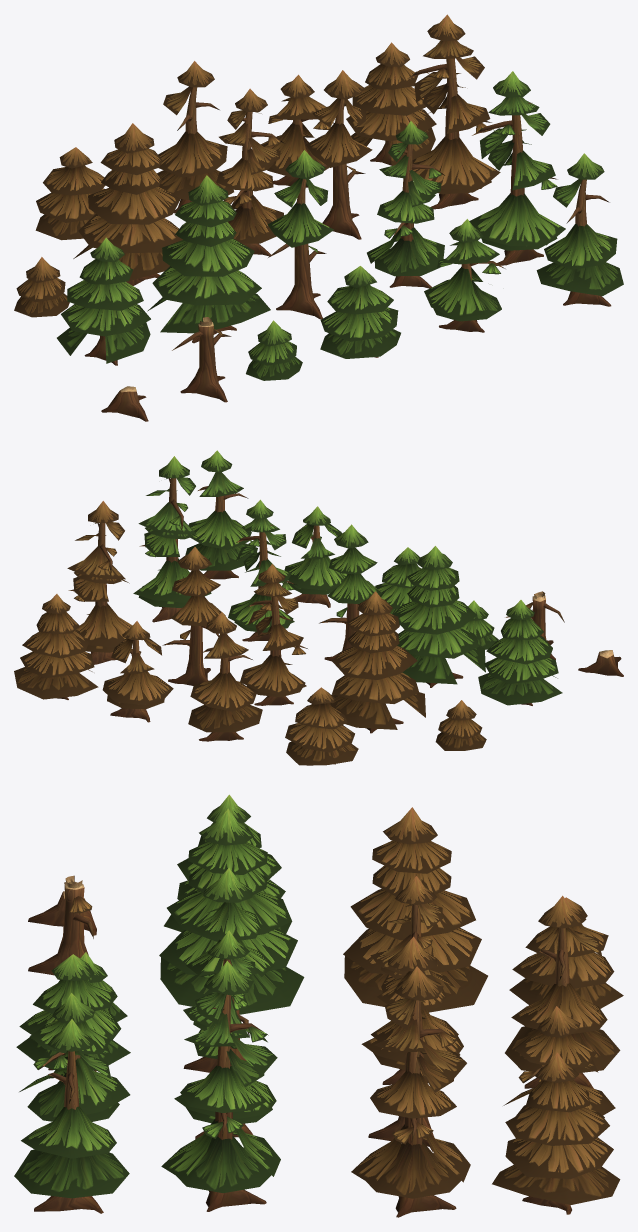
File: Pines4Sketch.fbx
3 renders of one model, top to bottom at view 1: azimuth 30°, elevation 25°; view 2: azimuth 150°, elevation 25°; view 3: azimuth 270°, elevation 25°, orthographic. The views are drawn at different scales.
Parts seen in each view (by area): view 1: pine_tree_01, pine_tree_10, pine_tree_05, pine_tree_14, pine_tree_02, pine_tree_06, pine_tree_07, pine_tree_11, pine_tree_15, pine_tree_03, pine_tree_08, pine_tree_16 (+8 smaller); view 2: pine_tree_10, pine_tree_01, pine_tree_02, pine_tree_11, pine_tree_14, pine_tree_16, pine_tree_05, pine_tree_15, pine_tree_07, pine_tree_12, pine_tree_18, pine_tree_17 (+8 smaller); view 3: pine_tree_14, pine_tree_05, pine_tree_10, pine_tree_01, pine_tree_11, pine_tree_07, pine_tree_16, pine_tree_09, pine_tree_12, pine_tree_03, pine_tree_08, pine_tree_15 (+7 smaller).
Part boxes in pixels (bbox=[...]): pine_tree_01: bbox=[147, 175, 270, 343]; pine_tree_10: bbox=[73, 123, 182, 285]; pine_tree_05: bbox=[469, 71, 565, 265]; pine_tree_14: bbox=[406, 14, 500, 209]; pine_tree_02: bbox=[57, 237, 150, 365]; pine_tree_06: bbox=[367, 121, 444, 288]; pine_tree_07: bbox=[536, 153, 623, 306]; pine_tree_11: bbox=[346, 42, 436, 165]; pine_tree_15: bbox=[216, 88, 284, 256]; pine_tree_03: bbox=[320, 266, 400, 358]; pine_tree_08: bbox=[267, 150, 333, 319]; pine_tree_16: bbox=[157, 61, 233, 213]; pine_tree_10: bbox=[330, 591, 425, 733]; pine_tree_01: bbox=[393, 546, 485, 687]; pine_tree_02: bbox=[478, 600, 562, 705]; pine_tree_11: bbox=[14, 594, 98, 699]; pine_tree_14: bbox=[67, 501, 132, 664]; pine_tree_16: bbox=[188, 612, 262, 741]; pine_tree_05: bbox=[133, 456, 211, 622]; pine_tree_15: bbox=[240, 564, 307, 705]; pine_tree_07: bbox=[185, 450, 257, 579]; pine_tree_12: bbox=[285, 687, 358, 765]; pine_tree_18: bbox=[102, 621, 173, 722]; pine_tree_17: bbox=[162, 547, 225, 685]; pine_tree_14: bbox=[351, 966, 470, 1217]; pine_tree_05: bbox=[161, 960, 280, 1211]; pine_tree_10: bbox=[343, 807, 487, 1012]; pine_tree_01: bbox=[159, 808, 304, 1014]; pine_tree_11: bbox=[492, 1052, 620, 1214]; pine_tree_07: bbox=[14, 1019, 129, 1213]; pine_tree_16: bbox=[505, 895, 620, 1088]; pine_tree_09: bbox=[19, 993, 130, 1121]; pine_tree_12: bbox=[509, 897, 623, 1008]; pine_tree_03: bbox=[16, 954, 130, 1071]; pine_tree_08: bbox=[183, 868, 274, 1072]; pine_tree_15: bbox=[361, 876, 463, 1084].
Size of the model in its own units: 38.1 by 12.99 by 30.25.
